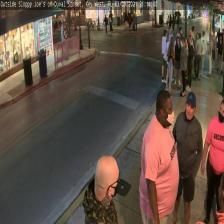person: (138, 90, 178, 224), (169, 92, 202, 224), (201, 98, 224, 222), (82, 156, 120, 223)
